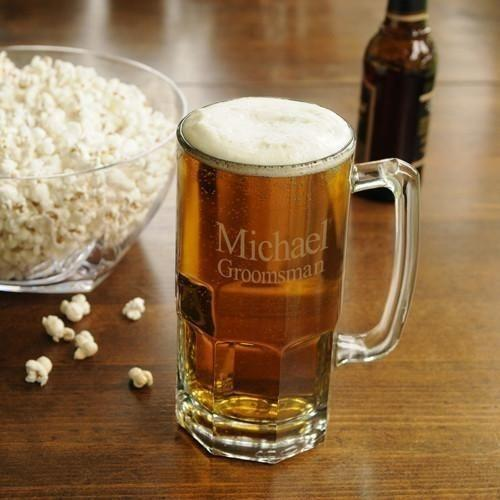bottle-glass: (351, 1, 439, 204)
glass-mug: (168, 91, 426, 470)
